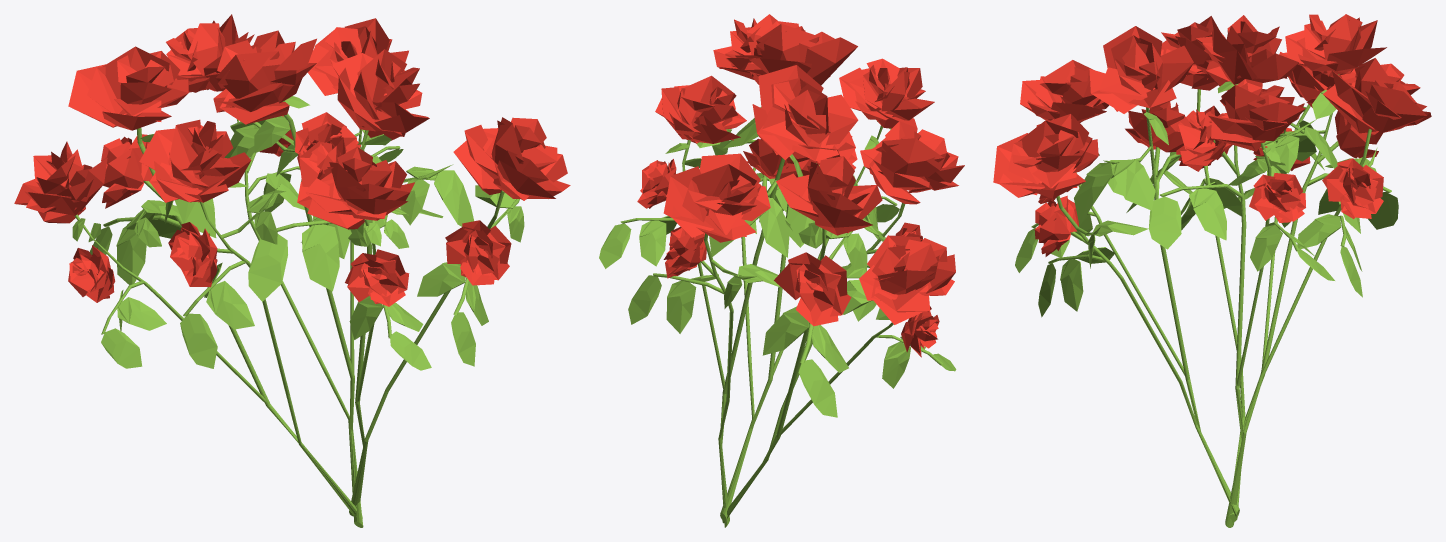
The model's file is flores.glb.
3 renders of one model, left to right at view 1: azimuth 30°, elevation 25°; view 2: azimuth 150°, elevation 25°; view 3: azimuth 270°, elevation 25°, orthographic. The views are drawn at different scales.
Visible parts, largest first — view 1: group442505152, group1646369301, group1342536564, group1263284255; view 2: group1342536564, group1646369301, group442505152, group166780739; view 3: group1342536564, group442505152, group1646369301.
Part boxes in pixels (x1,y1,x2,y2): group442505152: (248, 49, 570, 516); group1646369301: (14, 46, 362, 518); group1342536564: (166, 14, 443, 527); group1263284255: (219, 92, 289, 124); group1342536564: (599, 65, 858, 527); group1646369301: (722, 121, 964, 523); group442505152: (696, 14, 934, 521); group166780739: (773, 81, 795, 114); group1342536564: (1149, 15, 1431, 527); group442505152: (993, 26, 1239, 517); group1646369301: (1160, 14, 1398, 522).
Bounding box in the file's own units: 0.2672 × 0.3301 × 0.2753.
